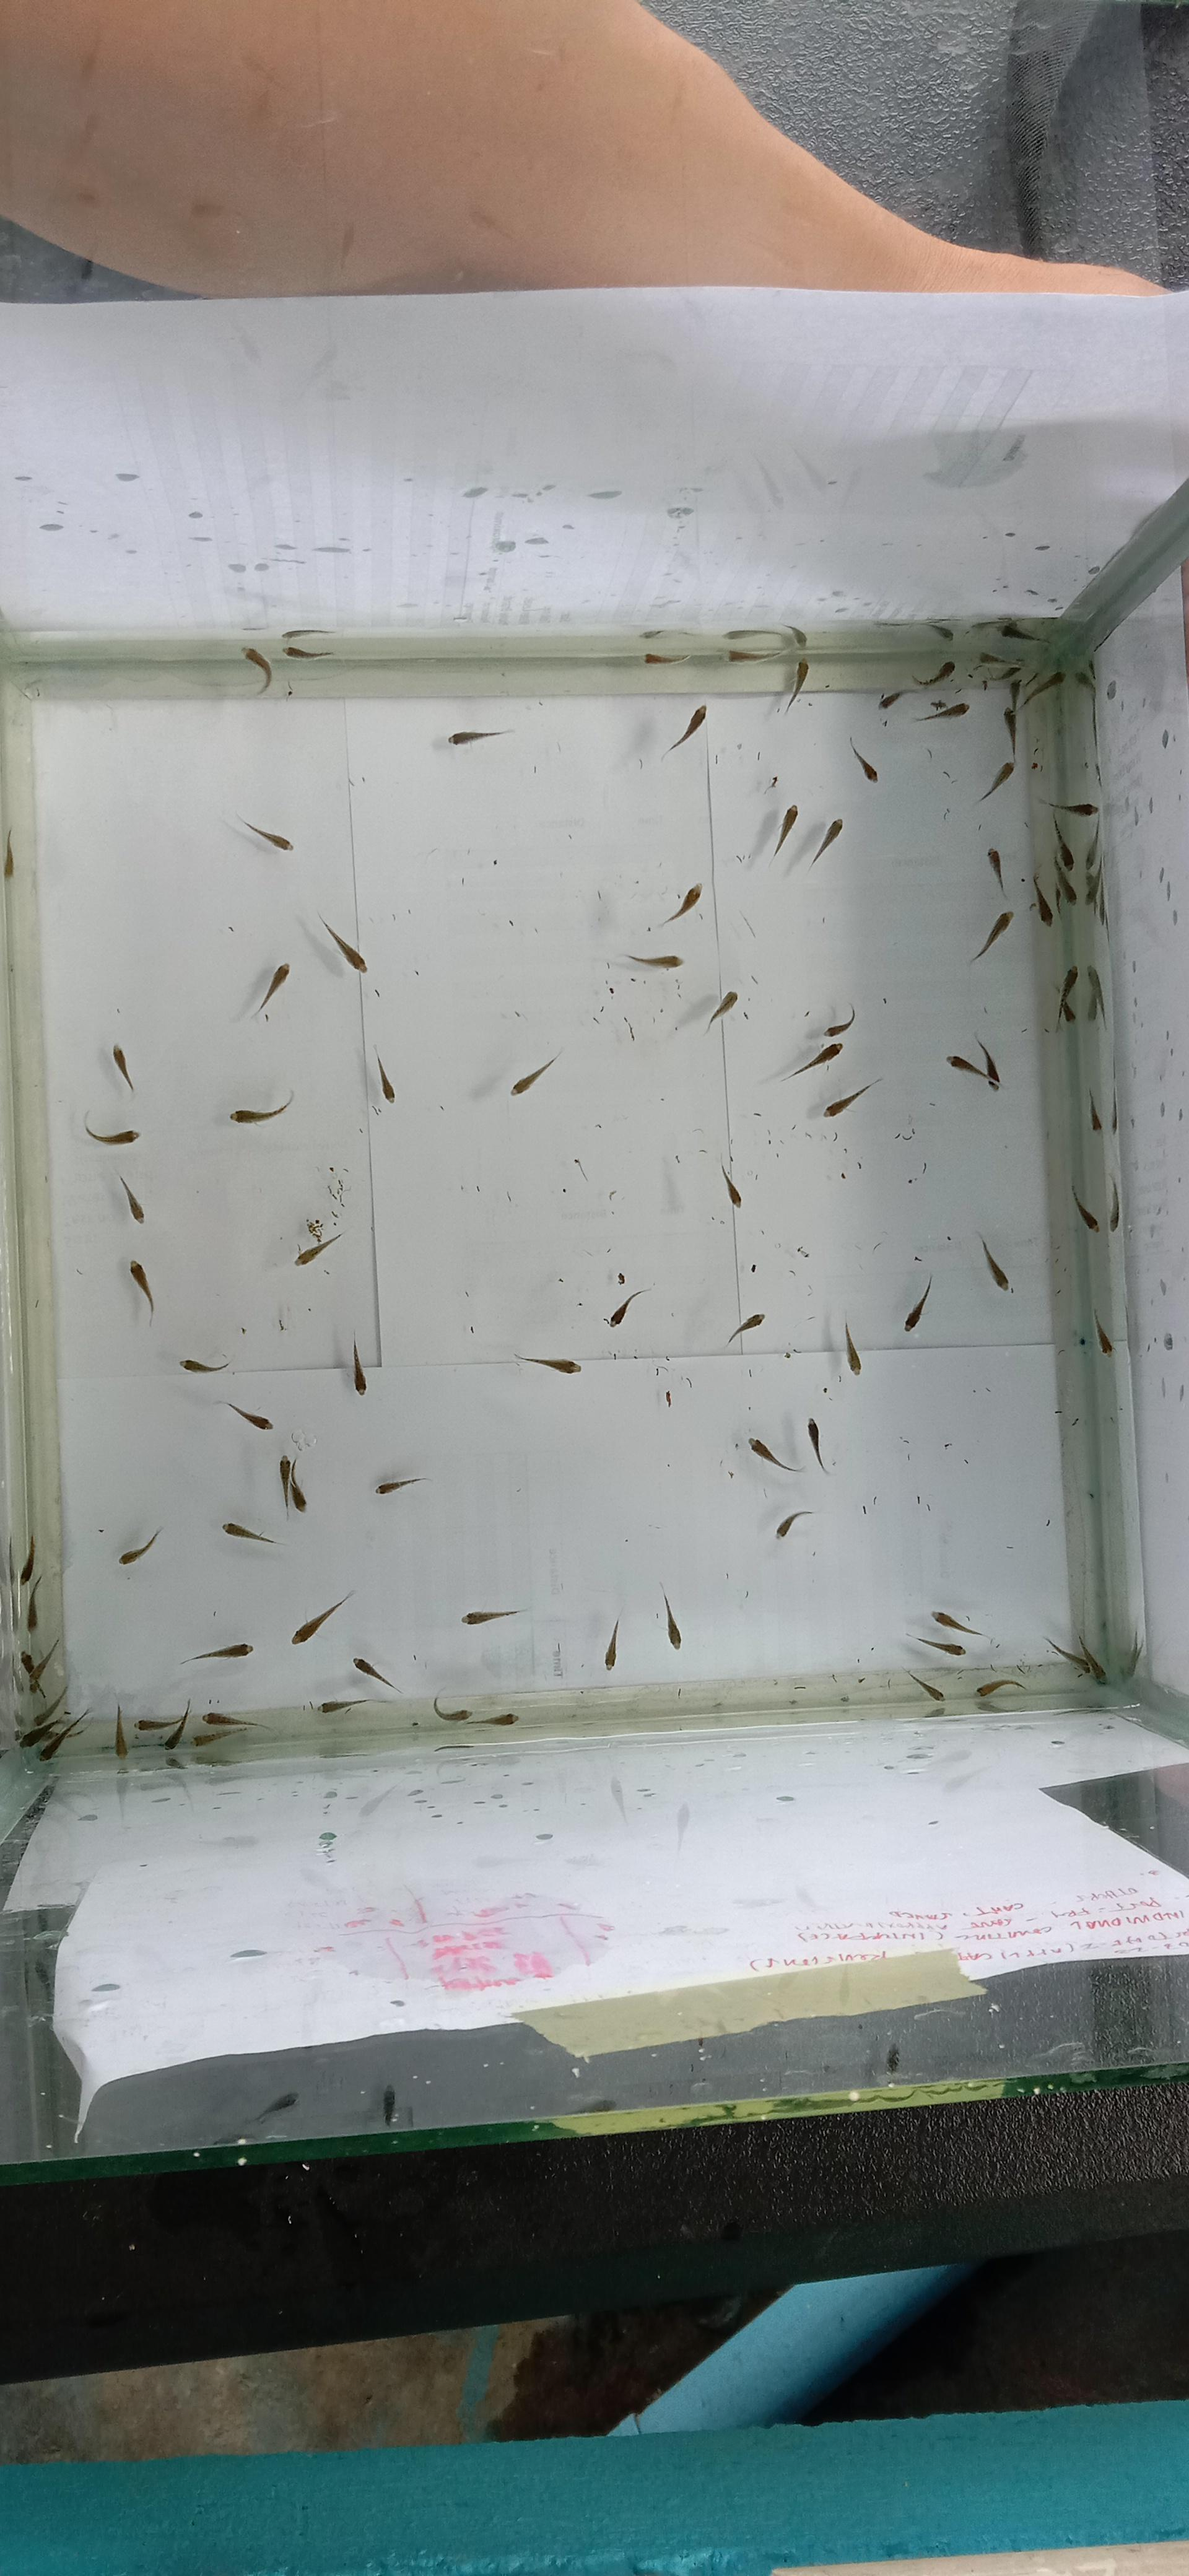fingerling: (879, 660, 954, 710), (291, 1590, 353, 1644), (36, 1707, 90, 1763), (1043, 1635, 1105, 1682), (18, 1686, 69, 1743), (432, 1695, 517, 1728), (320, 915, 368, 973), (650, 882, 701, 931), (509, 1050, 562, 1096), (969, 908, 1013, 963), (823, 1076, 880, 1117), (230, 1089, 292, 1125), (663, 703, 706, 754), (788, 1040, 842, 1079), (84, 1111, 138, 1147), (351, 1656, 401, 1695), (1013, 667, 1063, 706), (747, 1436, 798, 1474), (240, 815, 292, 851), (604, 1288, 650, 1329), (977, 1235, 1010, 1293), (256, 963, 291, 1017), (902, 1275, 933, 1332), (294, 1230, 343, 1267), (118, 1526, 163, 1566), (179, 1643, 253, 1666), (126, 1260, 154, 1321), (778, 659, 810, 713), (159, 1700, 192, 1751), (279, 1456, 307, 1515), (977, 759, 1015, 802), (931, 1610, 989, 1638), (135, 1704, 189, 1733), (1081, 828, 1100, 908), (811, 816, 844, 864), (241, 646, 273, 695), (977, 655, 1020, 690), (282, 629, 332, 659), (1069, 1186, 1100, 1232), (225, 1401, 273, 1431), (660, 1585, 682, 1649), (849, 736, 879, 782), (1056, 964, 1079, 1023), (705, 989, 737, 1030), (974, 1037, 1000, 1088), (806, 1416, 829, 1474), (1051, 816, 1074, 874), (1076, 1638, 1105, 1682), (726, 1311, 764, 1345), (772, 805, 798, 854), (222, 1521, 274, 1546), (514, 1355, 580, 1375), (974, 1677, 1023, 1704), (1028, 876, 1054, 925), (913, 700, 969, 723), (192, 1725, 243, 1750), (118, 1175, 145, 1222), (907, 1671, 944, 1704), (911, 1635, 964, 1658), (911, 659, 954, 687), (624, 951, 683, 971), (774, 1510, 813, 1539), (112, 1043, 135, 1092), (1084, 966, 1104, 1023), (448, 728, 511, 746), (204, 1712, 259, 1732), (1043, 798, 1097, 818), (432, 1695, 470, 1723), (461, 1608, 519, 1626), (842, 1321, 862, 1373), (376, 1051, 396, 1104), (179, 1355, 230, 1375), (719, 1165, 742, 1207), (376, 1477, 425, 1497), (317, 1699, 365, 1718), (824, 1005, 856, 1035), (601, 1618, 619, 1669), (23, 1579, 41, 1630), (351, 1341, 368, 1395), (1092, 1314, 1113, 1355), (977, 652, 1018, 674), (1000, 621, 1041, 642), (985, 848, 1005, 892), (16, 1720, 49, 1746), (642, 649, 691, 665), (282, 644, 332, 660), (726, 647, 775, 664), (113, 1705, 128, 1758), (475, 1710, 517, 1728), (877, 688, 910, 711), (18, 1538, 34, 1582), (1002, 706, 1017, 754), (1084, 1089, 1100, 1132), (282, 628, 330, 641), (192, 1732, 227, 1750), (931, 1610, 962, 1630), (946, 1055, 976, 1074), (549, 1643, 565, 1677), (926, 623, 953, 642)
